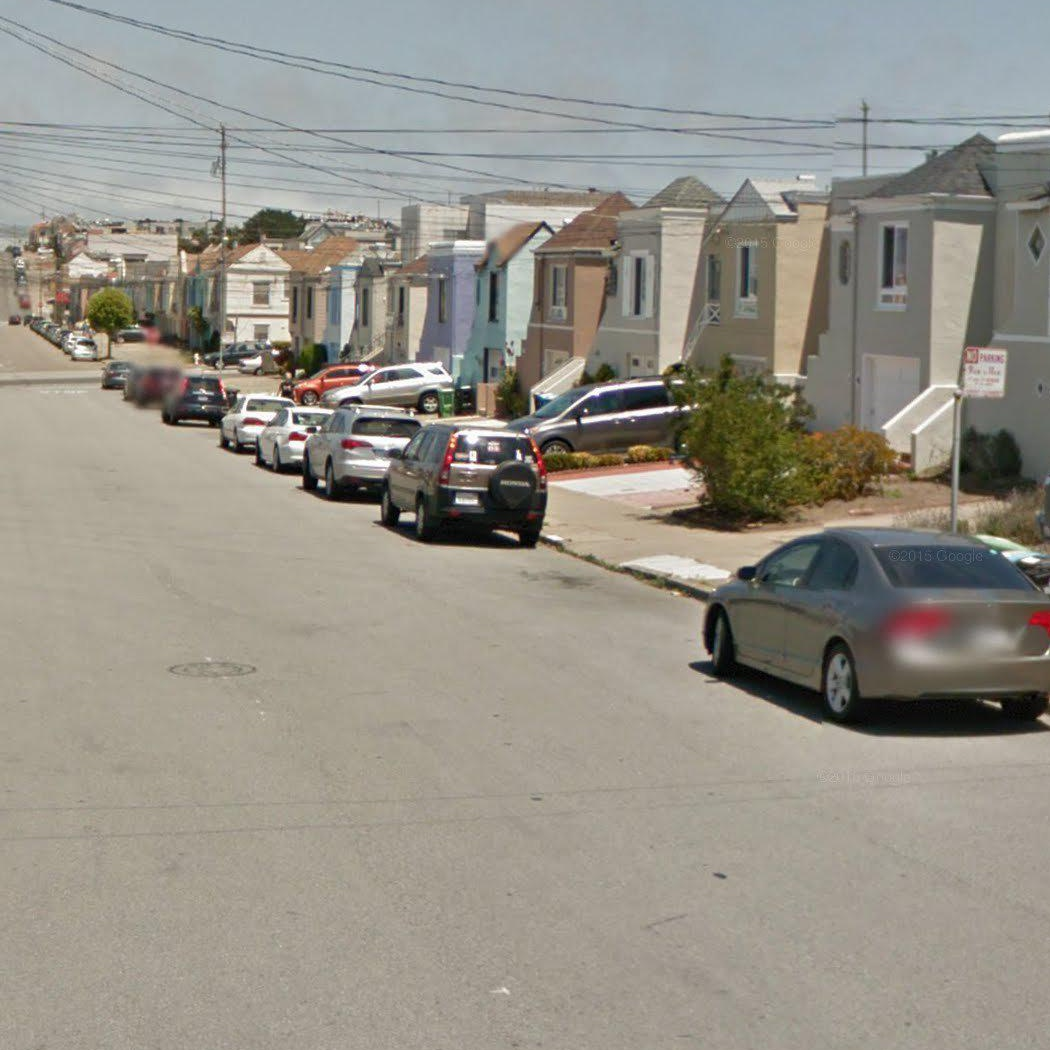No Parking: (960, 344, 1009, 400)
